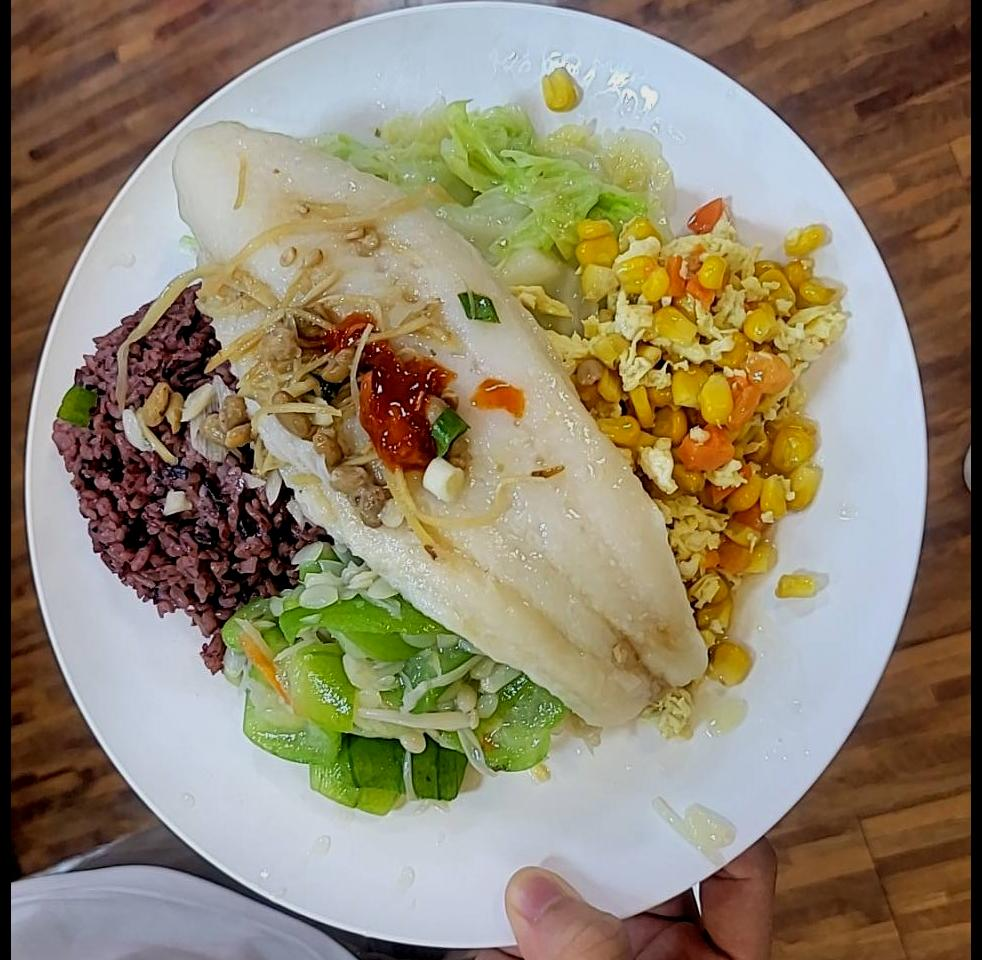big fried chicken leg: (21, 0, 942, 946)
braised fish: (50, 266, 295, 642)
braised fish fillet: (574, 216, 846, 657), (213, 542, 560, 821), (320, 113, 638, 304)
braised pork ribs: (143, 123, 720, 726)
